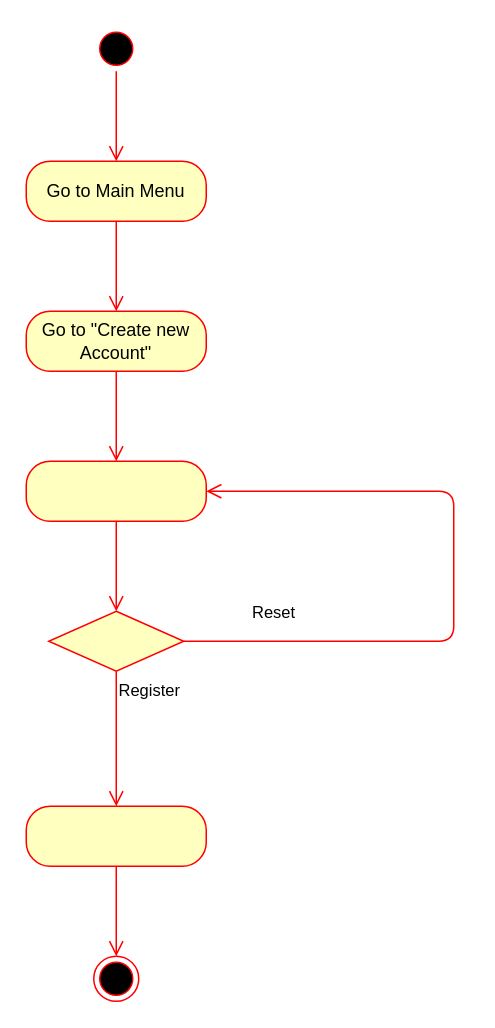
The diagram is 495 pixels wide and 1028 high, and some of its shapes have lost their labels. The shapes that lost their labels are listed below. From the top down, each one's centre as x and y in pixels, then its label:
At pixel 115 490: "Complete the form".
At pixel 115 835: "Save user to Database".
